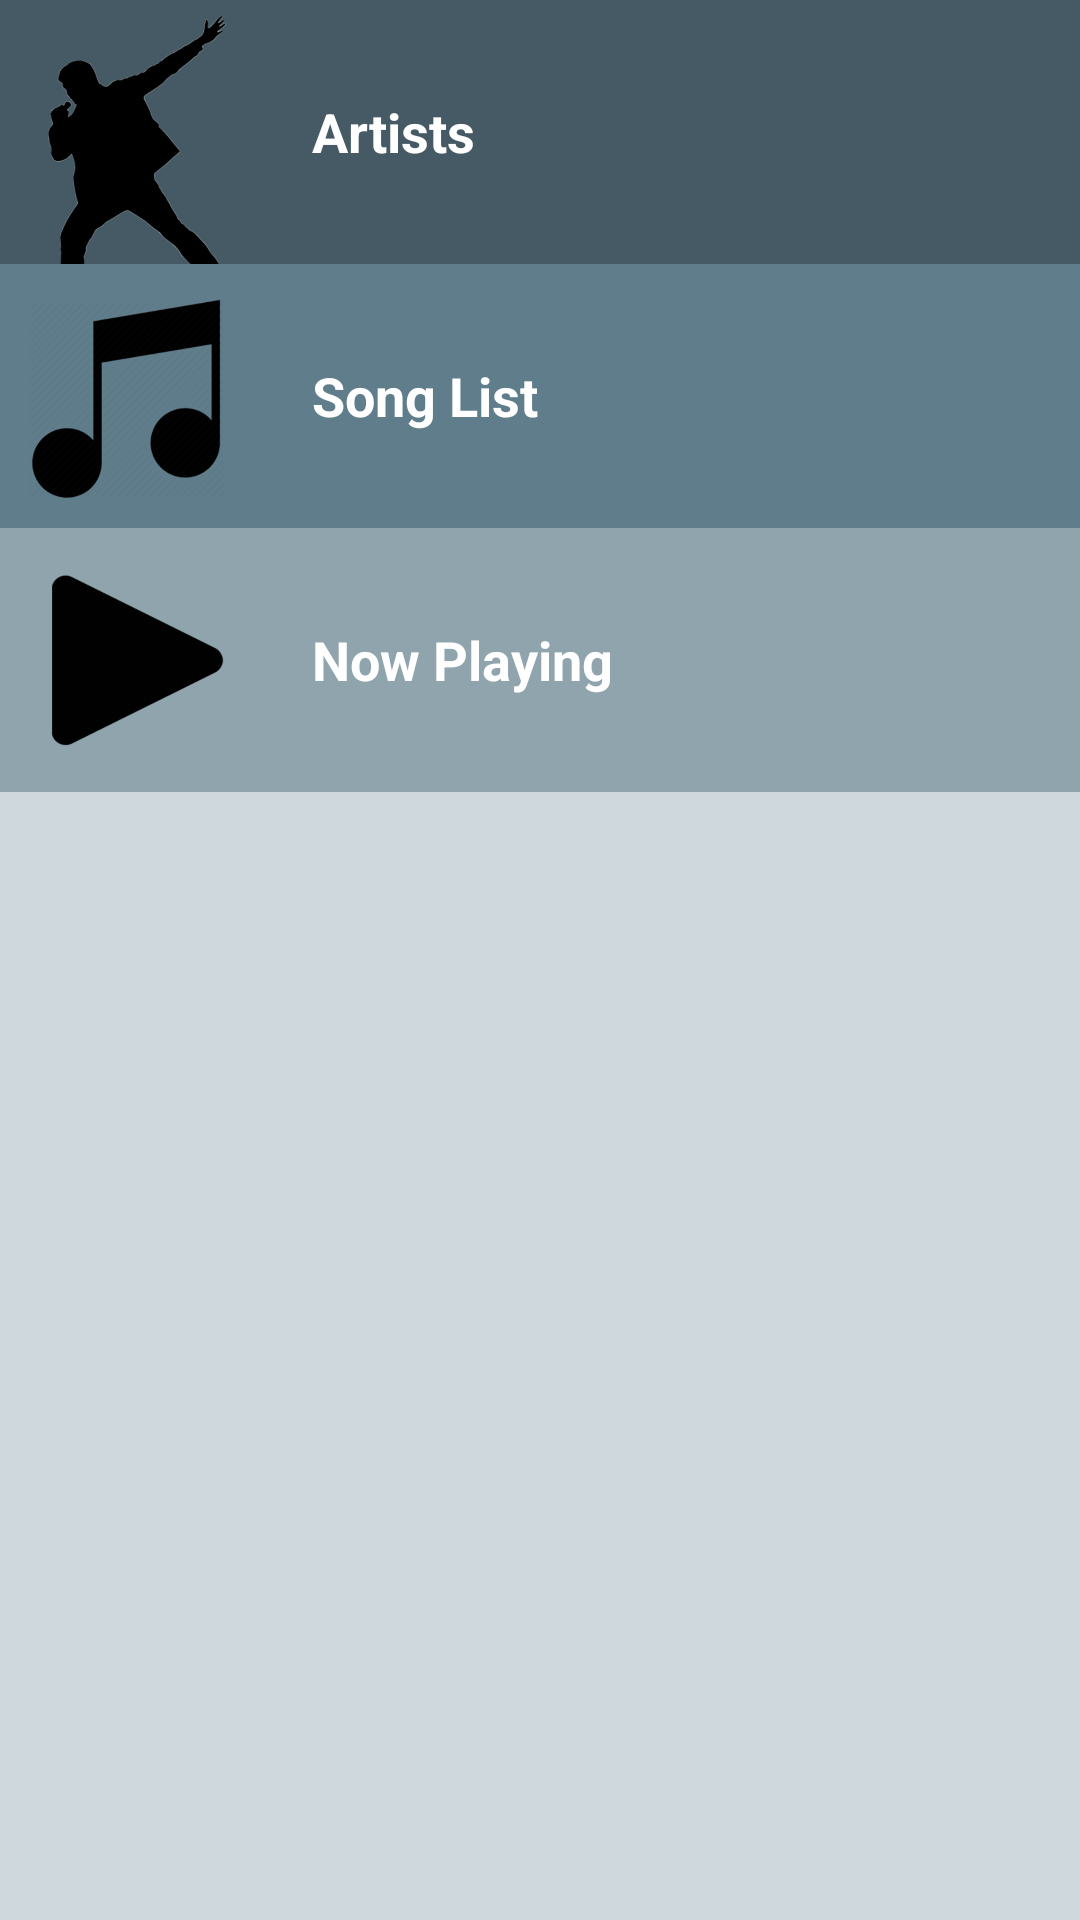

Screen size 1080*1920. Icon name, then its center in pixels as point (x, y):
music: point (126, 399)
singer: point (137, 140)
